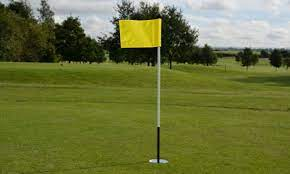Flag: (118, 19, 164, 49)
